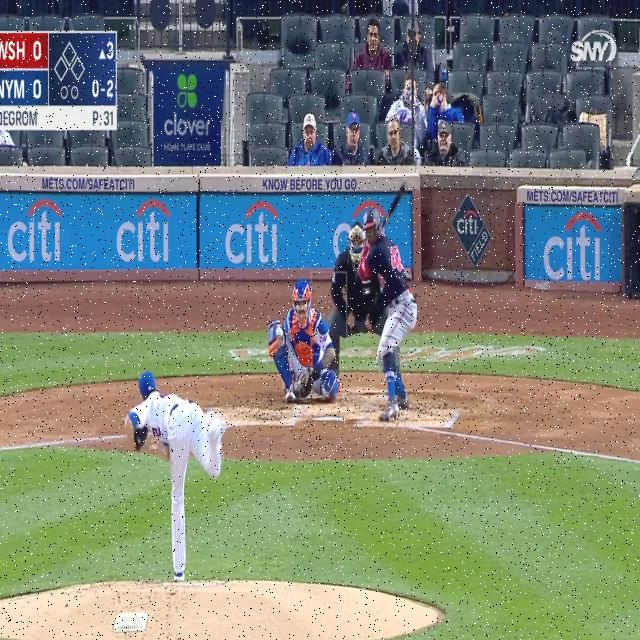baseball: (276, 327, 283, 338)
